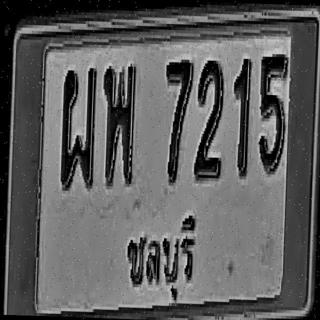A28: (60, 64, 96, 189)
A30: (100, 61, 136, 185)
N01: (231, 55, 252, 176)
N02: (193, 57, 225, 181)
N05: (257, 52, 288, 173)
N07: (162, 56, 194, 183)
P13: (119, 202, 201, 304)
